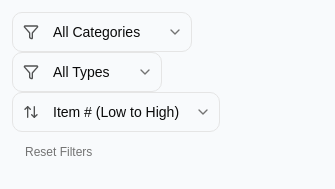
Test: AuctionItemsFilterControls - Select display labels and popup width › renders every category option's full, untruncated text when the dropdown is open
Step 1. Click the dropdown named "Filter by category" → (102, 32), box [12,12,192,52]
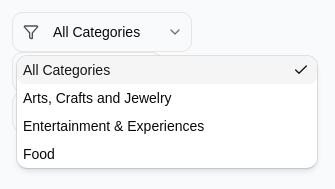
Check: the text "Arts, Crafts and Jewelry" is shown, box [23,90,172,106]
Check: the text "Entertainment & Experiences" is shown, box [23,118,204,134]
Check: the text "Food" is shown, box [23,146,55,162]
